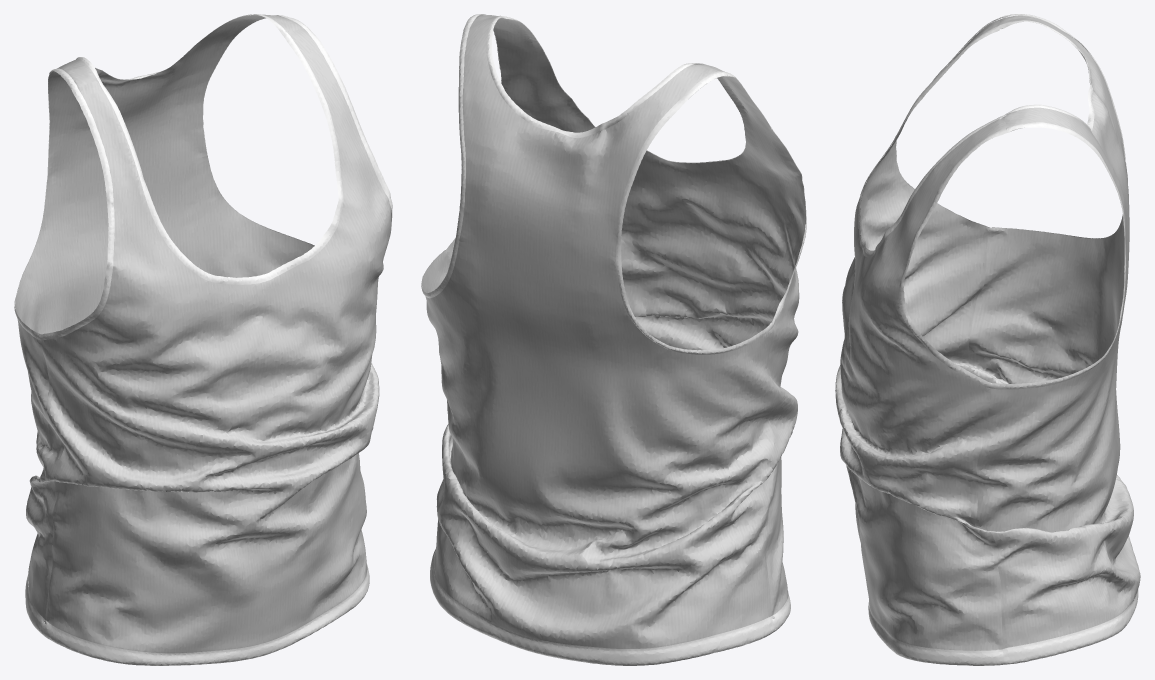
Rendered from elvs-male-athletic-tank1.glb.
The picture shows the model from 3 angles, left to right: view 1: azimuth 30°, elevation 25°; view 2: azimuth 150°, elevation 25°; view 3: azimuth 270°, elevation 25°; orthographic projection. The views are drawn at different scales.
Visible parts, largest first — view 1: male athletic tank; view 2: male athletic tank; view 3: male athletic tank.
Part boxes in pixels (x1,y1,x2,y2): male athletic tank: (14, 14, 392, 665); male athletic tank: (421, 14, 806, 665); male athletic tank: (835, 14, 1140, 665).
Bounding box in the file's own units: 33.56 × 57.34 × 28.72.
1 material, 1 textured.
